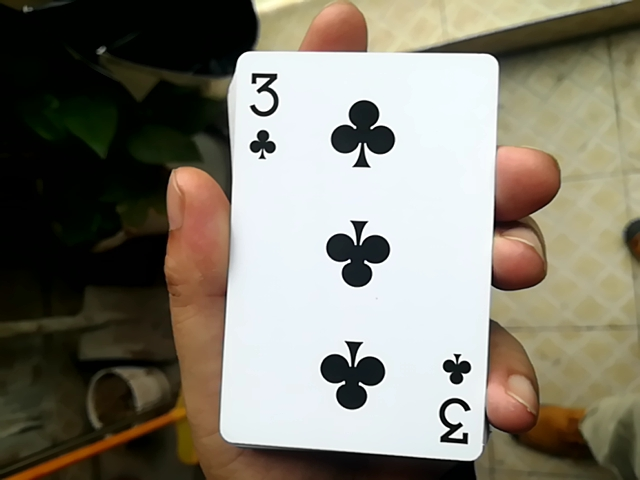mh 3: (213, 42, 493, 465)
